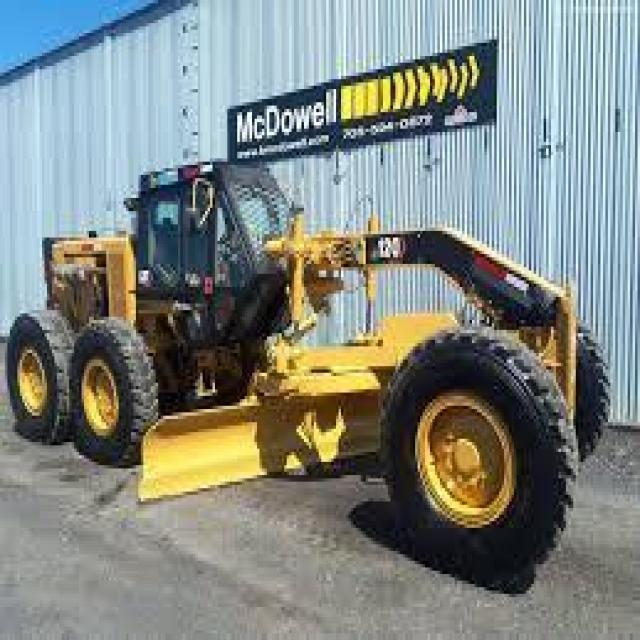buldozerpayloadergrader: (10, 135, 613, 600)
